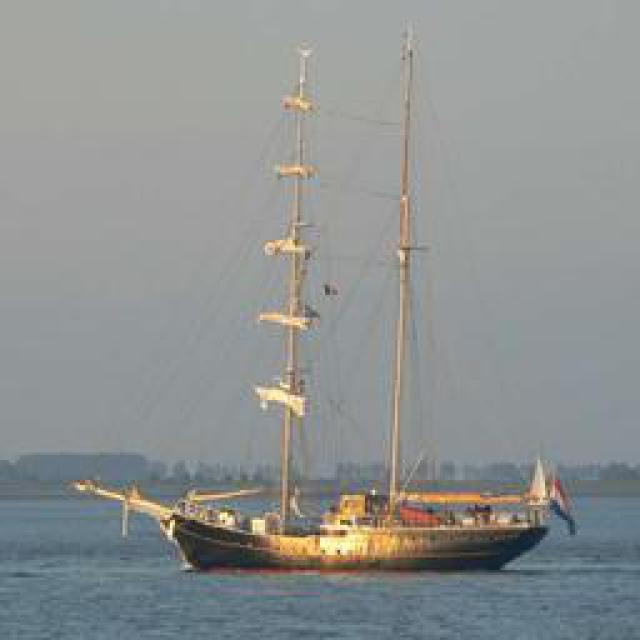Ship: (154, 490, 564, 570)
